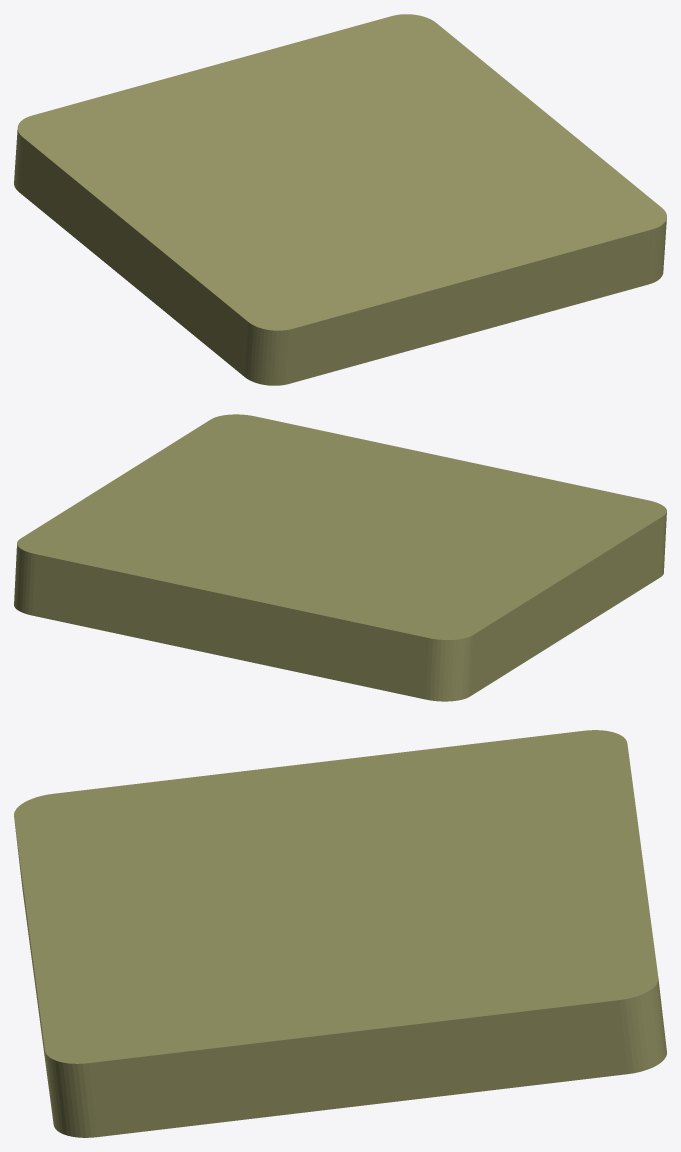
Rendered from original-109.obj.
3 renders of one model, top to bottom at view 1: azimuth 30°, elevation 25°; view 2: azimuth 150°, elevation 25°; view 3: azimuth 270°, elevation 25°, orthographic. The views are drawn at different scales.
Parts seen in each view (by area): view 1: mesh107/mesh107-geometry#mesh107-geometry; view 2: mesh107/mesh107-geometry#mesh107-geometry; view 3: mesh107/mesh107-geometry#mesh107-geometry.
Boxes of the visible parts, x1,y1,x2,y2 form: mesh107/mesh107-geometry#mesh107-geometry: [14, 14, 666, 385]; mesh107/mesh107-geometry#mesh107-geometry: [14, 414, 666, 701]; mesh107/mesh107-geometry#mesh107-geometry: [14, 730, 666, 1137].
Size of the model in its own units: 0.0741 by 0.0162 by 0.0725.
